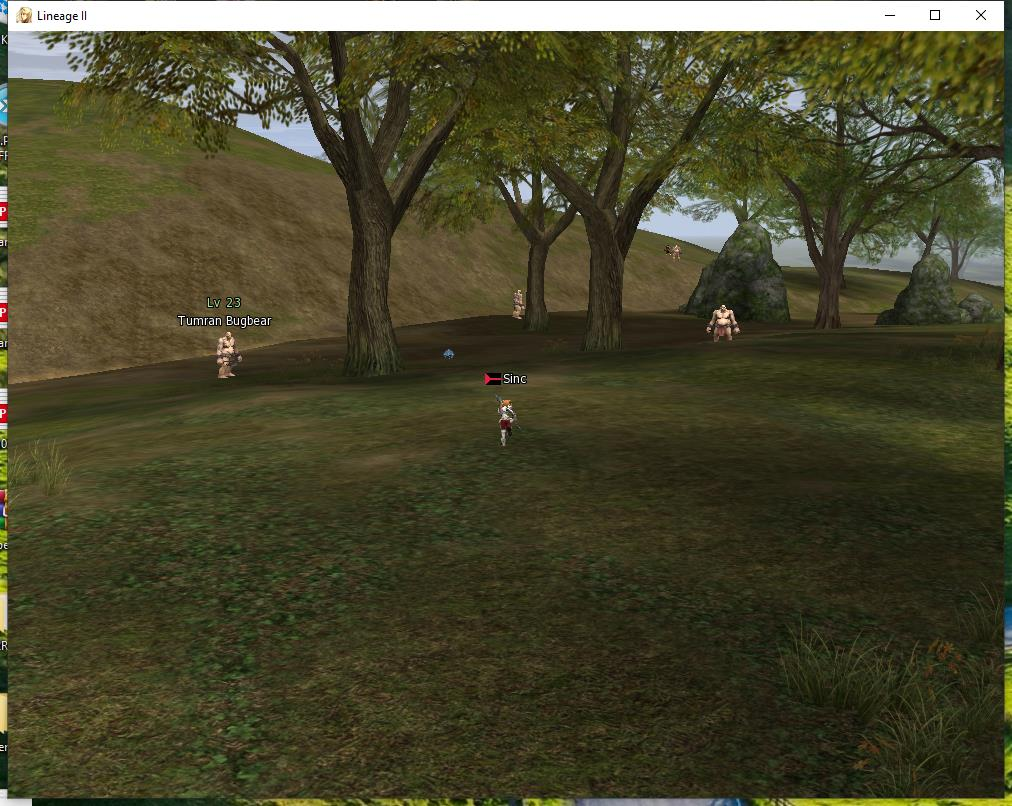monster: (168, 279, 278, 395), (701, 304, 745, 349), (506, 282, 527, 319), (663, 239, 685, 264)
